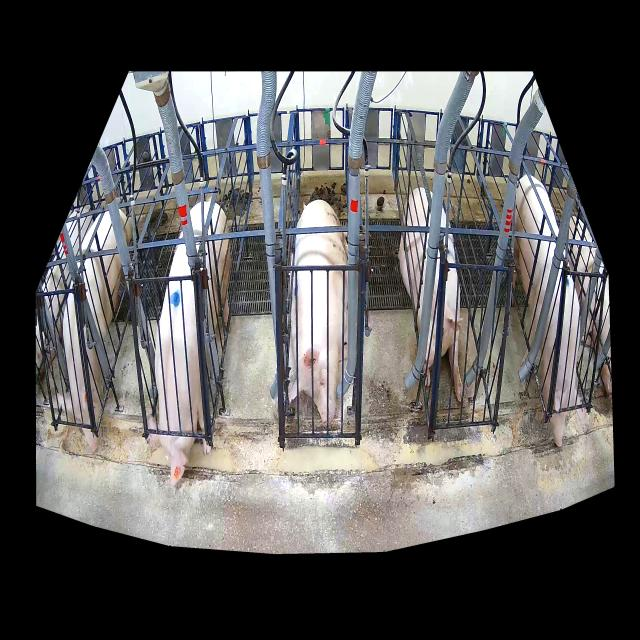pig: (148, 202, 231, 487), (512, 175, 587, 446), (57, 209, 132, 455), (399, 187, 464, 402), (288, 200, 348, 426)
